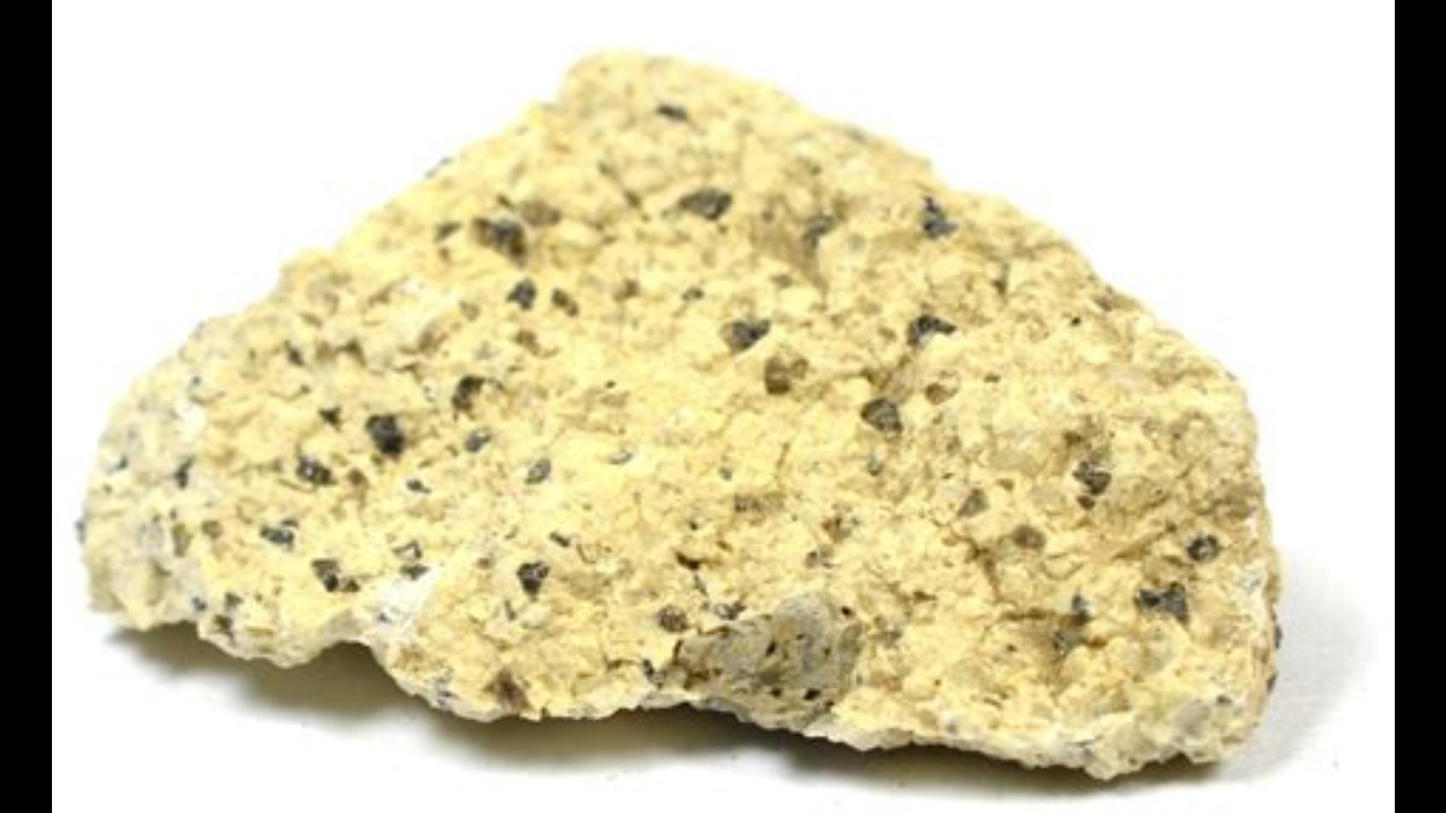rock: (80, 54, 1273, 773)
